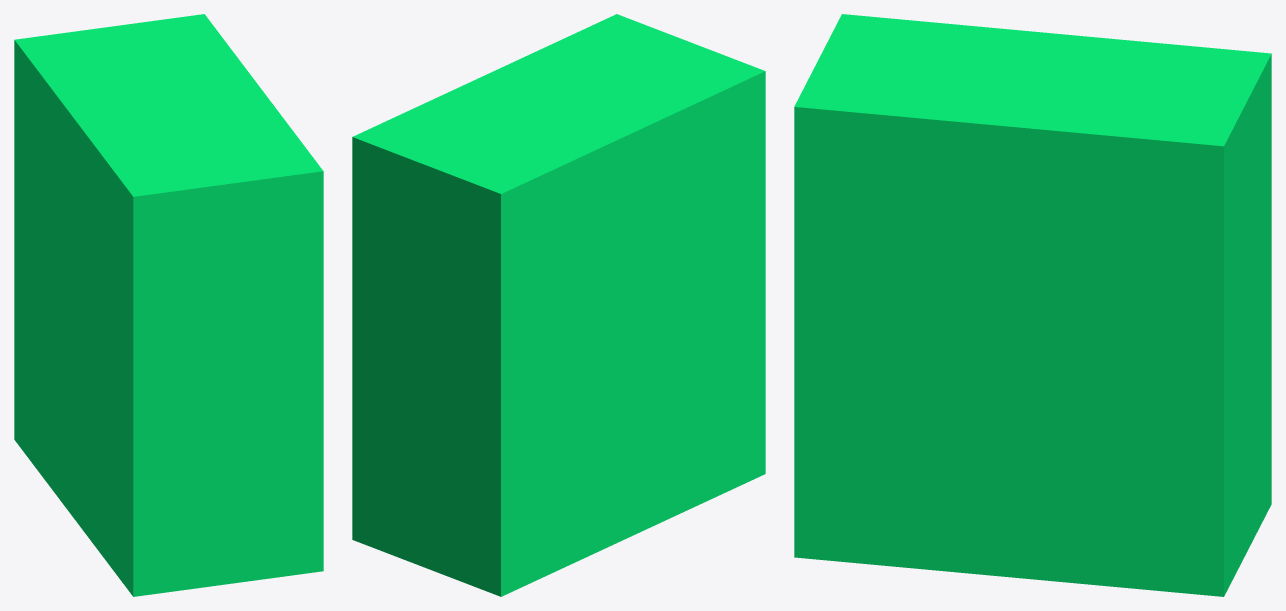
The model's file is DEHB01ALk0001DYV.gltf.
The picture shows the model from 3 angles, left to right: view 1: azimuth 30°, elevation 25°; view 2: azimuth 150°, elevation 25°; view 3: azimuth 270°, elevation 25°; orthographic projection. The views are drawn at different scales.
Visible parts, largest first — view 1: Z_UP; view 2: Z_UP; view 3: Z_UP.
Boxes of the visible parts, left/top/right/bottom form: Z_UP: left=14, top=14, right=323, bottom=596; Z_UP: left=352, top=14, right=765, bottom=596; Z_UP: left=794, top=14, right=1271, bottom=596.
Bounding box in the file's own units: 1.57 × 2.5 × 2.4.
